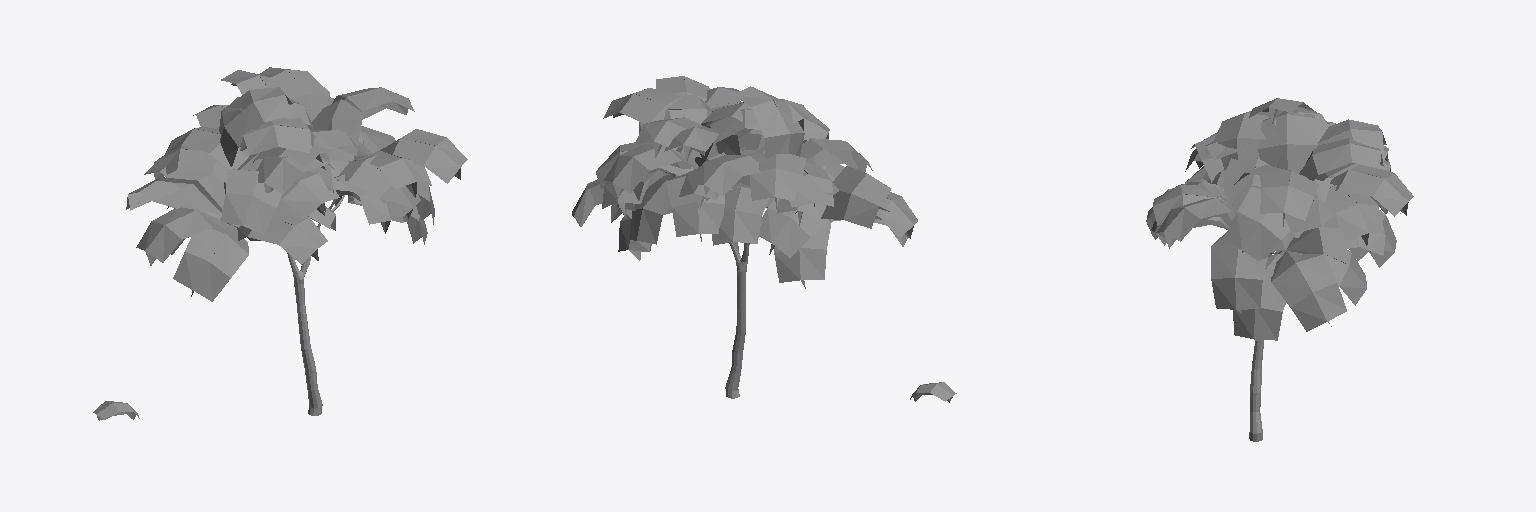
File: gum_tree1.obj
The picture shows the model from 3 angles: view 1: azimuth 30°, elevation 25°; view 2: azimuth 150°, elevation 25°; view 3: azimuth 270°, elevation 25°; orthographic projection.
Parts seen in each view (by area): view 1: Plane_branch, Plane.051_branch, Plane.009_branch, Plane.019_branch, Plane.038_branch, Plane.050_branch, Plane.037_branch, Plane.034_branch, Circle.001, Plane.023_branch, Plane.001_branch, Plane.018_branch (+16 smaller); view 2: Plane.001_branch, Plane.051_branch, Plane.026_branch, Plane.007_branch, Plane.016_branch, Plane.029_branch, Plane.012_branch, Plane.004_branch, Plane.008_branch, Plane.031_branch, Plane.021_branch, Circle.001 (+15 smaller); view 3: Plane.044_branch, Plane.048_branch, Plane.022_branch, Plane.024_branch, Plane.026_branch, Plane.021_branch, Plane.047_branch, Plane.028_branch, Plane.023_branch, Plane.038_branch, Plane.034_branch, Plane.045_branch (+8 smaller).
Part boxes in pixels (x1,y1,x2,y2): Plane_branch: (173, 224, 248, 301); Plane.051_branch: (219, 87, 292, 166); Plane.009_branch: (221, 169, 281, 234); Plane.019_branch: (136, 207, 227, 265); Plane.038_branch: (380, 129, 467, 183); Plane.050_branch: (237, 214, 327, 264); Plane.037_branch: (337, 154, 420, 220); Plane.034_branch: (240, 117, 325, 166); Circle.001: (227, 194, 344, 415); Plane.023_branch: (259, 67, 330, 121); Plane.001_branch: (126, 177, 222, 218); Plane.018_branch: (154, 146, 227, 182); Plane.001_branch: (821, 166, 890, 228); Plane.051_branch: (733, 86, 804, 158); Plane.026_branch: (604, 143, 697, 197); Plane.007_branch: (749, 153, 806, 208); Plane.016_branch: (712, 187, 769, 253); Plane.029_branch: (666, 169, 724, 241); Plane.012_branch: (759, 198, 830, 258); Plane.004_branch: (774, 219, 831, 288); Plane.008_branch: (689, 155, 760, 200); Plane.031_branch: (630, 180, 670, 250); Plane.021_branch: (603, 88, 681, 123); Circle.001: (695, 161, 749, 398); Plane.044_branch: (1271, 251, 1346, 331); Plane.048_branch: (1211, 232, 1267, 313); Plane.022_branch: (1257, 111, 1317, 173); Plane.024_branch: (1224, 186, 1290, 260); Plane.026_branch: (1330, 165, 1413, 216); Plane.021_branch: (1260, 172, 1319, 226); Plane.047_branch: (1233, 254, 1285, 344); Plane.028_branch: (1321, 185, 1384, 245); Plane.023_branch: (1299, 138, 1383, 180); Plane.038_branch: (1156, 198, 1246, 248); Plane.034_branch: (1213, 111, 1269, 169); Plane.045_branch: (1287, 227, 1385, 255).
Size of the model in its own units: 41.22 by 36.48 by 27.68.